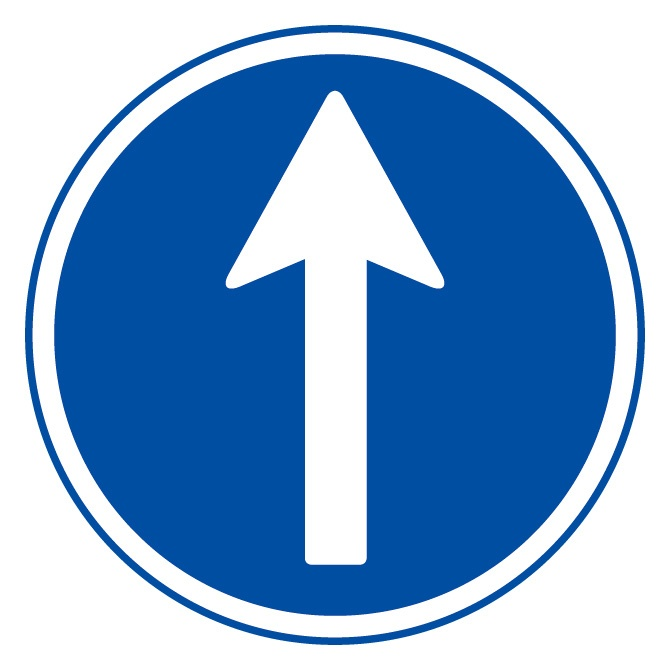Direction_sign: (15, 13, 663, 665)
